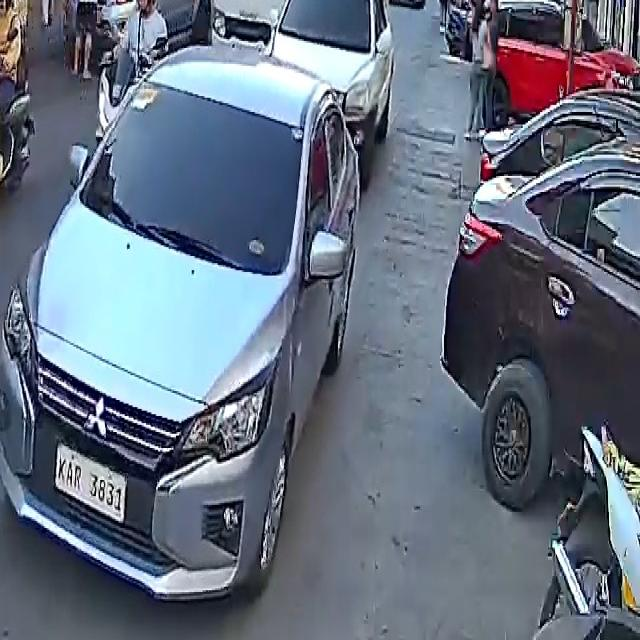car: (0, 16, 383, 596), (444, 112, 640, 524), (468, 0, 640, 142), (263, 0, 396, 164), (93, 0, 216, 52), (386, 0, 427, 7)
